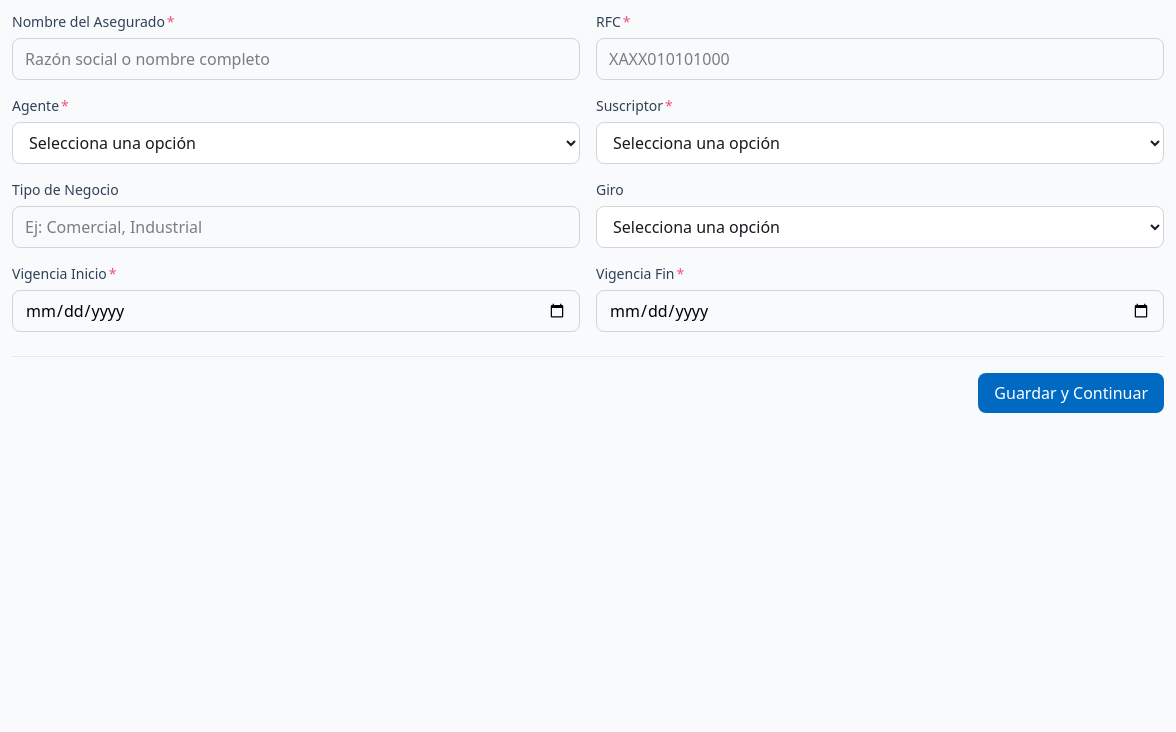
Scenario: QuoteForm › clears field validation error when user starts typing
Note: Trigger validation to show error
Click the button "Guardar y Continuar" at (1071, 393), box left=978, top=373, right=1164, bottom=413
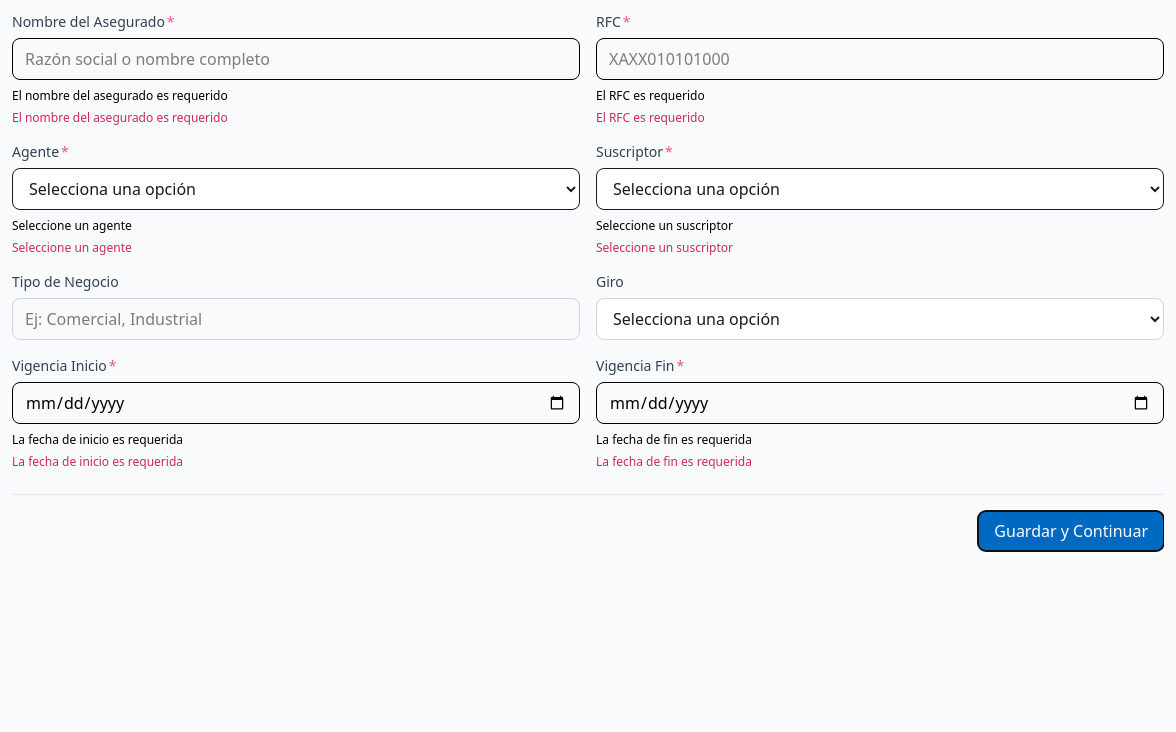
Note: Fixing the field clears its specific error
Type "A" into the field with placeholder "Razón social o nombre completo" at (296, 59), box left=12, top=38, right=580, bottom=80
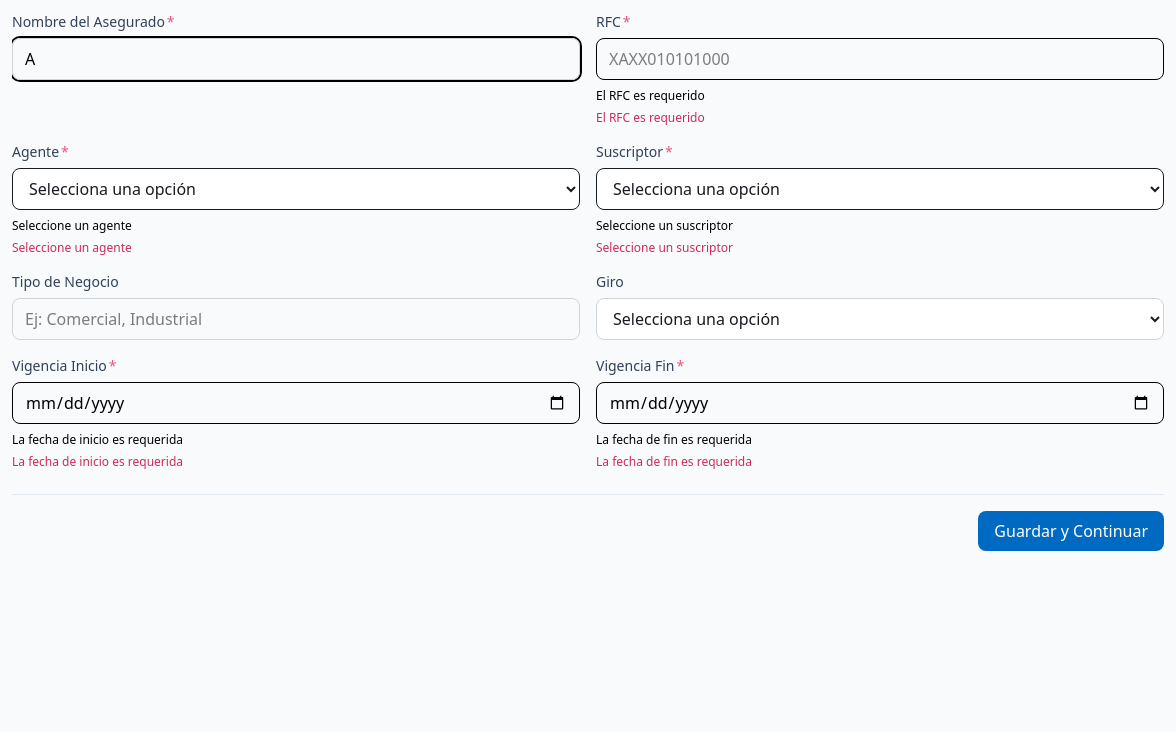
Result: the text "nombre del asegurado es requerido" is gone
